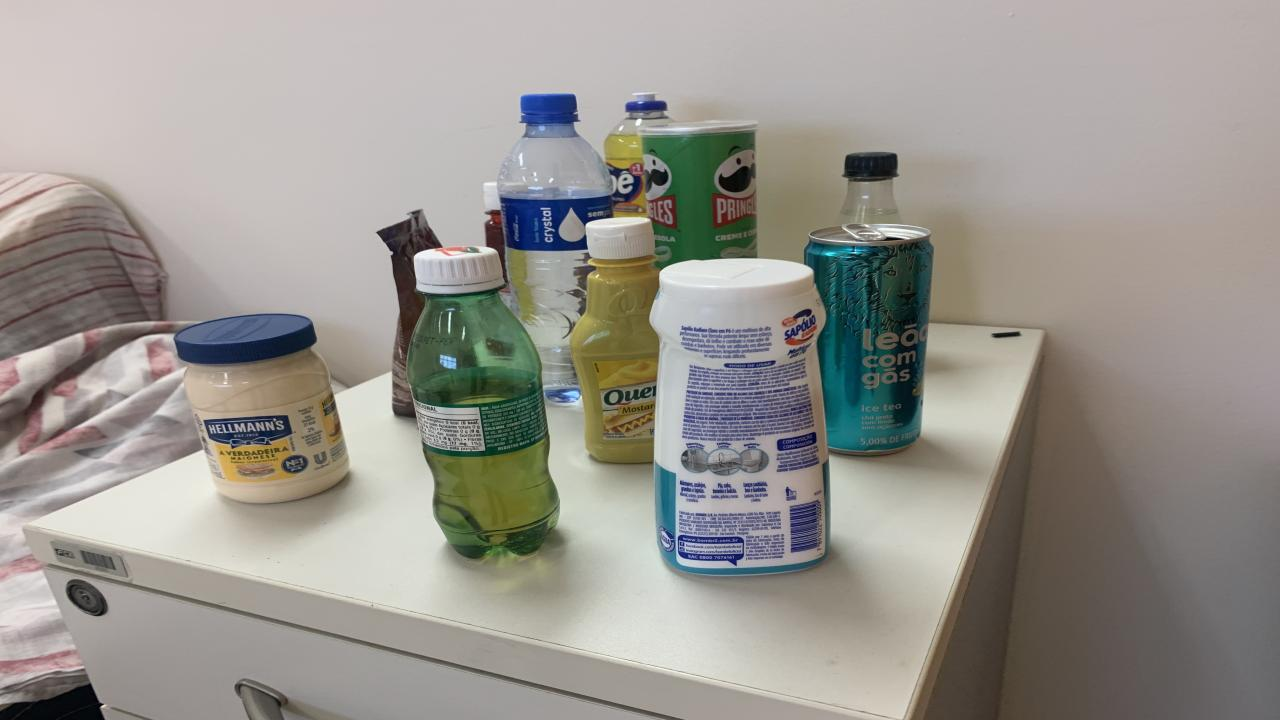Cleaner-Cleanup_Items: (650, 259, 830, 576)
Coffee-Pantry_Items: (378, 210, 440, 416)
Detergent-Cleanup_Items: (605, 92, 670, 218)
Guarana-Drinks: (408, 248, 560, 559)
Ketchup-Pantry_Items: (482, 182, 505, 274)
Mayonnaise-Pantry_Items: (175, 313, 350, 502)
Mustard-Pantry_Items: (570, 218, 660, 463)
Pringles-Snacks: (640, 120, 758, 266)
Soda-Drinks: (835, 152, 902, 225)
Tea-Drinks: (805, 223, 932, 454)
Water_Bottle-Drinks: (498, 94, 612, 405)
